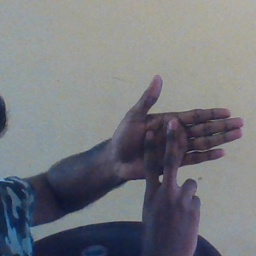N: (112, 75, 245, 243)
